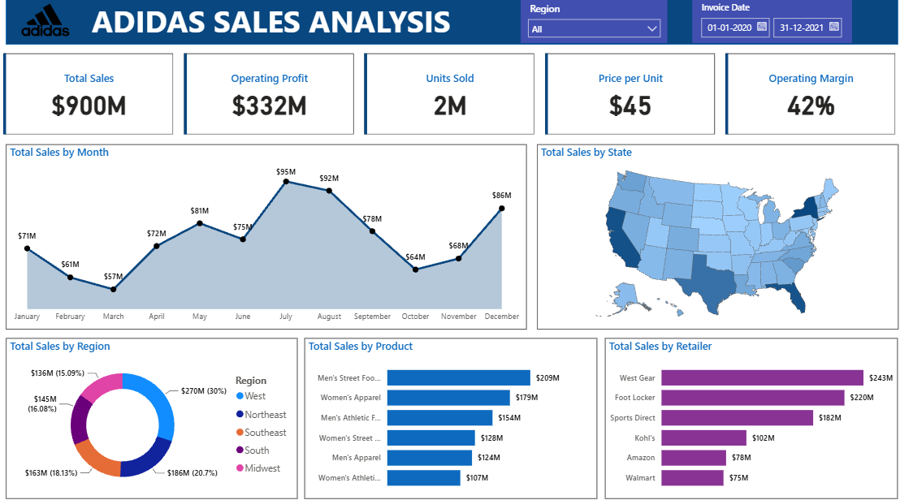

Layout of this report page (visuals, bound fields, positions):
{"tool":"powerbi","page":{"name":"Page 1","canvas":[1280,720],"ordinal":0},"visuals":[{"type":"shape","box":[12.3,0,1255.6,70],"z":0},{"type":"textbox","box":[128.4,1.2,524.6,67.3],"z":1000},{"type":"cardVisual","fields":{"Data":["Sum(Data Sales Adidas.Total Sales)","Sum(Data Sales Adidas.Operating Profit)","Sum(Data Sales Adidas.Units Sold)","Avg(Data Sales Adidas.Price per Unit)","Avg(Data Sales Adidas.Operating Margin)"]},"box":[4.9,77,1269.3,124.7],"z":2000},{"type":"areaChart","title":"Total Sales by Month","fields":{"Category":["Data Sales Adidas.Invoice Date.Variation.Date Hierarchy.Month"],"Y":["Sum(Data Sales Adidas.Total Sales)"]},"box":[12.2,210.6,732.5,260.5],"z":3000},{"type":"shapeMap","title":"Total Sales by State","fields":{"Category":["Data Sales Adidas.State"],"Value":["Sum(Data Sales Adidas.Total Sales)"]},"box":[759.4,210.6,508.7,260.5],"z":4000},{"type":"donutChart","title":"Total Sales by Region","fields":{"Category":["Data Sales Adidas.Region"],"Y":["Sum(Data Sales Adidas.Total Sales)"]},"box":[12.2,483,410,226],"z":5000},{"type":"barChart","title":"Total Sales by Product","fields":{"Category":["Data Sales Adidas.Product"],"Y":["Sum(Data Sales Adidas.Total Sales)"]},"box":[432.9,483,412.1,226.2],"z":6000},{"type":"barChart","title":"Total Sales by Retailer","fields":{"Category":["Data Sales Adidas.Retailer"],"Y":["Sum(Data Sales Adidas.Total Sales)"]},"box":[856,483,412.1,226.2],"z":7000},{"type":"slicer","fields":{"Values":["Data Sales Adidas.Region"]},"box":[737.4,3.7,206.7,63.6],"z":8000},{"type":"slicer","fields":{"Values":["Data Sales Adidas.Invoice Date"]},"box":[978.3,3.7,225,63.6],"z":9000},{"type":"image","box":[29.3,0,77,69.7],"z":9001}]}

Visuals, with their boxes in screenshot pixels (x1, y1, x2, y2), scaled from the page's 1280x720 canvas onto the 900x500 screenshot:
shape: x1=9 y1=0 x2=891 y2=49
textbox: x1=90 y1=1 x2=459 y2=48
cardVisual - Sum(Data Sales Adidas.Total Sales) x Sum(Data Sales Adidas.Operating Profit): x1=3 y1=53 x2=896 y2=140
"Total Sales by Month" areaChart: x1=9 y1=146 x2=524 y2=327
"Total Sales by State" shapeMap: x1=534 y1=146 x2=892 y2=327
"Total Sales by Region" donutChart: x1=9 y1=335 x2=297 y2=492
"Total Sales by Product" barChart: x1=304 y1=335 x2=594 y2=492
"Total Sales by Retailer" barChart: x1=602 y1=335 x2=892 y2=492
slicer - Data Sales Adidas.Region: x1=518 y1=3 x2=664 y2=47
slicer - Data Sales Adidas.Invoice Date: x1=688 y1=3 x2=846 y2=47
image: x1=21 y1=0 x2=75 y2=48
